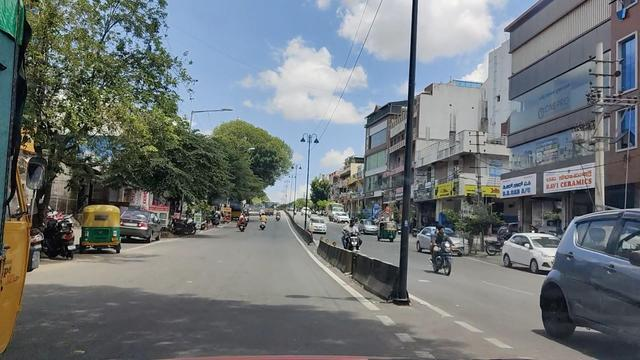LMV: (78, 206, 123, 252), (122, 210, 163, 240)
